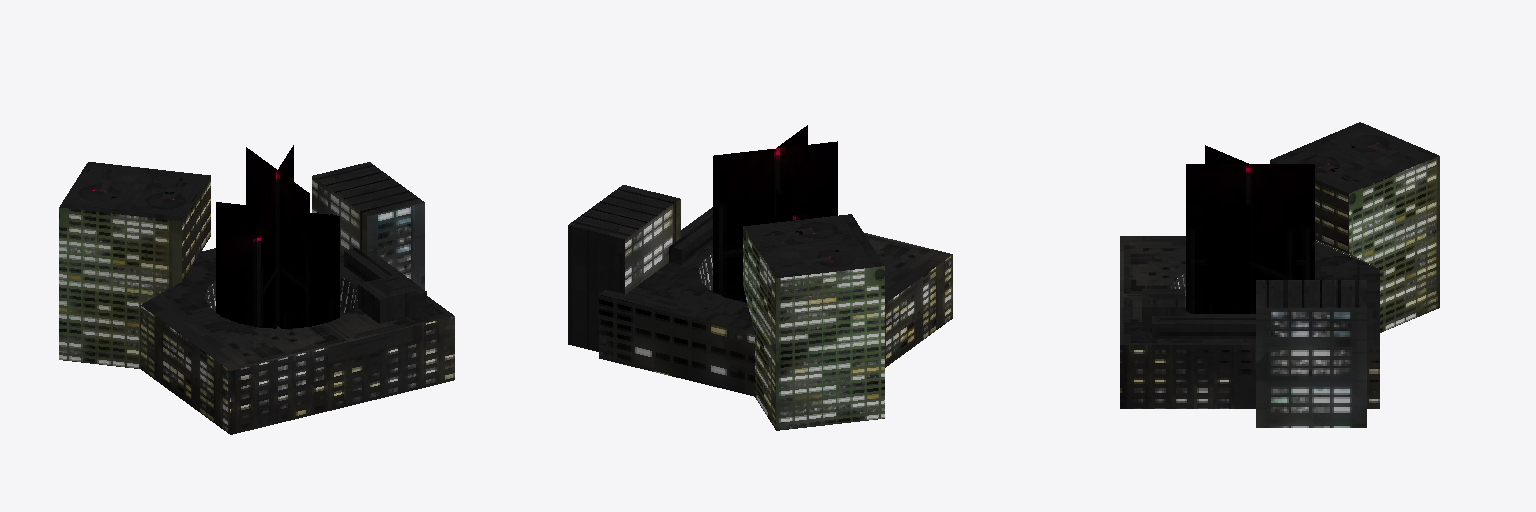
3 renders of one model, left to right at view 1: azimuth 30°, elevation 25°; view 2: azimuth 150°, elevation 25°; view 3: azimuth 270°, elevation 25°, orthographic.
Parts seen in each view (by area): view 1: building_54; view 2: building_54; view 3: building_54.
Boxes of the visible parts, <box> form: building_54: <box>59,145,454,434</box>; building_54: <box>568,125,952,430</box>; building_54: <box>1120,122,1439,427</box>.
Bounding box in the file's own units: 156 × 90.44 × 138.
1 materials, 1 textured.